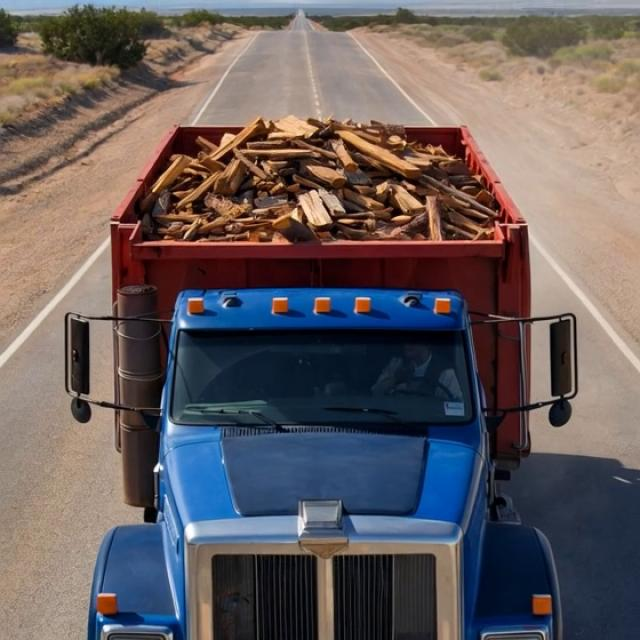Box: (121, 114, 551, 274)
Truck: (59, 62, 578, 640)
